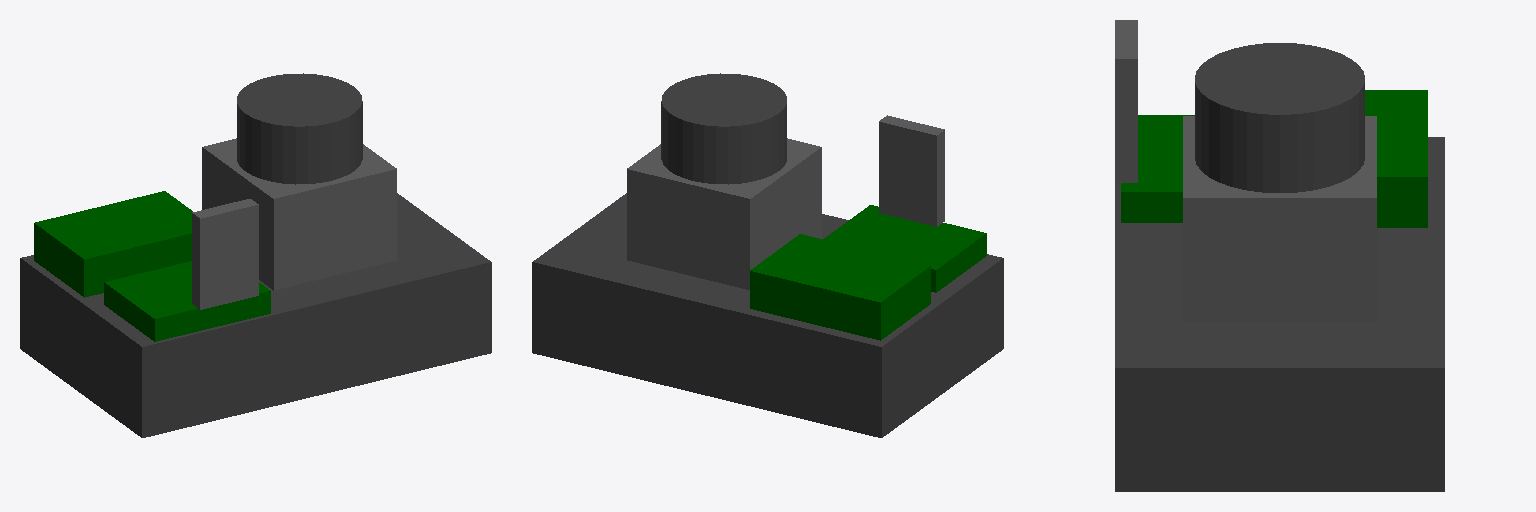
The robot description file, URDF, robot "robot_car":
<?xml version="1.0" ?>
<!-- =================================================================================== -->
<!-- |    This document was autogenerated by xacro from guenbot2.urdf.xacro            | -->
<!-- |    EDITING THIS FILE BY HAND IS NOT RECOMMENDED                                 | -->
<!-- =================================================================================== -->
<robot name="robot_car">
  <!-- Robot Base -->
  <link name="base_link">
    <visual>
      <geometry>
        <box size="0.24 0.145 0.06"/>
      </geometry>
      <material name="Dark Grey">
        <color rgba="0.3 0.3 0.3 1.0"/>
      </material>
    </visual>
    <collision>
      <geometry>
        <box size="0.24 0.145 0.06"/>
      </geometry>
    </collision>
    <inertial>
      <origin rpy="1.5707963267948966 0 1.5707963267948966" xyz="0 0 0"/>
      <mass value="1.5"/>
      <inertia ixx="0.00765" ixy="0.0" ixz="0.0" iyy="0.009828125" iyz="0.0" izz="0.0030781249999999997"/>
    </inertial>
  </link>
  <!-- Robot Footprint -->
  <link name="base_footprint">
    <inertial>
      <origin rpy="1.5707963267948966 0 1.5707963267948966" xyz="0 0 0"/>
      <mass value="0"/>
      <inertia ixx="0.0" ixy="0.0" ixz="0.0" iyy="0.0" iyz="0.0" izz="0.0"/>
    </inertial>
  </link>
  <joint name="base_joint" type="fixed">
    <parent link="base_link"/>
    <child link="base_footprint"/>
    <origin rpy="0 0 0" xyz="0.0 0.0 -0.05"/>
  </joint>
  <link name="wheel_front_left_link">
    <visual>
      <origin rpy="0 0 0" xyz="0 0 0"/>
      <geometry>
        <mesh filename="file:///home/guen/neuronbot2_ros2_ws/src/neuronbot2/neuronbot2_description/meshes/mecanum.dae" scale="0.325 0.325 0.325"/>
      </geometry>
    </visual>
    <collision>
      <origin rpy="1.5707963267948966 0 0" xyz="0 0 0"/>
      <geometry>
        <cylinder length="0.035" radius="0.04"/>
      </geometry>
    </collision>
    <inertial>
      <origin rpy="1.5707963267948966 0 0" xyz="0 0 0"/>
      <mass value="0.1"/>
      <inertia ixx="5.020833333333333e-05" ixy="0" ixz="0" iyy="5.020833333333333e-05" iyz="0" izz="8e-05"/>
    </inertial>
  </link>
  <joint name="wheel_front_left_joint" type="continuous">
    <parent link="base_link"/>
    <child link="wheel_front_left_link"/>
    <origin rpy="0 0 0" xyz="0.085 0.0975 -0.01"/>
    <axis xyz="0 1 0"/>
  </joint>
  <link name="wheel_front_right_link">
    <visual>
      <origin rpy="0 0 0" xyz="0 0 0"/>
      <geometry>
        <mesh filename="file:///home/guen/neuronbot2_ros2_ws/src/neuronbot2/neuronbot2_description/meshes/mecanum.dae" scale="0.325 0.325 0.325"/>
      </geometry>
    </visual>
    <collision>
      <origin rpy="1.5707963267948966 0 0" xyz="0 0 0"/>
      <geometry>
        <cylinder length="0.035" radius="0.04"/>
      </geometry>
    </collision>
    <inertial>
      <origin rpy="1.5707963267948966 0 0" xyz="0 0 0"/>
      <mass value="0.1"/>
      <inertia ixx="5.020833333333333e-05" ixy="0" ixz="0" iyy="5.020833333333333e-05" iyz="0" izz="8e-05"/>
    </inertial>
  </link>
  <joint name="wheel_front_right_joint" type="continuous">
    <parent link="base_link"/>
    <child link="wheel_front_right_link"/>
    <origin rpy="0 0 0" xyz="0.085 -0.0975 -0.01"/>
    <axis xyz="0 1 0"/>
  </joint>
  <link name="wheel_back_left_link">
    <visual>
      <origin rpy="0 0 0" xyz="0 0 0"/>
      <geometry>
        <mesh filename="file:///home/guen/neuronbot2_ros2_ws/src/neuronbot2/neuronbot2_description/meshes/mecanum.dae" scale="0.325 0.325 0.325"/>
      </geometry>
    </visual>
    <collision>
      <origin rpy="1.5707963267948966 0 0" xyz="0 0 0"/>
      <geometry>
        <cylinder length="0.035" radius="0.04"/>
      </geometry>
    </collision>
    <inertial>
      <origin rpy="1.5707963267948966 0 0" xyz="0 0 0"/>
      <mass value="0.1"/>
      <inertia ixx="5.020833333333333e-05" ixy="0" ixz="0" iyy="5.020833333333333e-05" iyz="0" izz="8e-05"/>
    </inertial>
  </link>
  <joint name="wheel_back_left_joint" type="continuous">
    <parent link="base_link"/>
    <child link="wheel_back_left_link"/>
    <origin rpy="0 0 0" xyz="-0.085 0.0975 -0.01"/>
    <axis xyz="0 1 0"/>
  </joint>
  <link name="wheel_back_right_link">
    <visual>
      <origin rpy="0 0 0" xyz="0 0 0"/>
      <geometry>
        <mesh filename="file:///home/guen/neuronbot2_ros2_ws/src/neuronbot2/neuronbot2_description/meshes/mecanum.dae" scale="0.325 0.325 0.325"/>
      </geometry>
    </visual>
    <collision>
      <origin rpy="1.5707963267948966 0 0" xyz="0 0 0"/>
      <geometry>
        <cylinder length="0.035" radius="0.04"/>
      </geometry>
    </collision>
    <inertial>
      <origin rpy="1.5707963267948966 0 0" xyz="0 0 0"/>
      <mass value="0.1"/>
      <inertia ixx="5.020833333333333e-05" ixy="0" ixz="0" iyy="5.020833333333333e-05" iyz="0" izz="8e-05"/>
    </inertial>
  </link>
  <joint name="wheel_back_right_joint" type="continuous">
    <parent link="base_link"/>
    <child link="wheel_back_right_link"/>
    <origin rpy="0 0 0" xyz="-0.085 -0.0975 -0.01"/>
    <axis xyz="0 1 0"/>
  </joint>
  <link name="board_1_link">
    <visual>
      <geometry>
        <box size="0.08 0.06 0.015"/>
      </geometry>
      <material name="Dark Green">
        <color rgba="0.0 0.4 0.0 1.0"/>
      </material>
    </visual>
    <collision>
      <geometry>
        <box size="0.08 0.06 0.015"/>
      </geometry>
    </collision>
    <inertial>
      <origin rpy="1.5707963267948966 0 1.5707963267948966" xyz="0 0 0"/>
      <mass value="0.1"/>
      <inertia ixx="5.520833333333334e-05" ixy="0.0" ixz="0.0" iyy="8.333333333333333e-05" iyz="0.0" izz="3.1874999999999996e-05"/>
    </inertial>
  </link>
  <joint name="board_1_joint" type="fixed">
    <parent link="base_link"/>
    <child link="board_1_link"/>
    <origin xyz="-0.07 -0.04 0.0375"/>
  </joint>
  <link name="board_2_link">
    <visual>
      <geometry>
        <box size="0.09 0.06 0.025"/>
      </geometry>
      <material name="Dark Green">
        <color rgba="0.0 0.4 0.0 1.0"/>
      </material>
    </visual>
    <collision>
      <geometry>
        <box size="0.09 0.06 0.025"/>
      </geometry>
    </collision>
    <inertial>
      <origin rpy="1.5707963267948966 0 1.5707963267948966" xyz="0 0 0"/>
      <mass value="0.2"/>
      <inertia ixx="0.00014541666666666666" ixy="0.0" ixz="0.0" iyy="0.00019499999999999997" iyz="0.0" izz="7.041666666666665e-05"/>
    </inertial>
  </link>
  <joint name="board_2_joint" type="fixed">
    <parent link="base_link"/>
    <child link="board_2_link"/>
    <origin xyz="-0.07 0.035 0.042499999999999996"/>
  </joint>
  <link name="antenna_link">
    <visual>
      <geometry>
        <box size="0.04 0.01 0.06"/>
      </geometry>
      <material name="Dark Grey">
        <color rgba="0.4 0.4 0.4 1.0"/>
      </material>
    </visual>
    <collision>
      <geometry>
        <box size="0.04 0.01 0.06"/>
      </geometry>
    </collision>
    <inertial>
      <origin rpy="1.5707963267948966 0 1.5707963267948966" xyz="0 0 0"/>
      <mass value="0.1"/>
      <inertia ixx="4.3333333333333334e-05" ixy="0.0" ixz="0.0" iyy="1.4166666666666668e-05" iyz="0.0" izz="3.083333333333333e-05"/>
    </inertial>
  </link>
  <joint name="antenna_joint" type="fixed">
    <parent link="base_link"/>
    <child link="antenna_link"/>
    <origin xyz="-0.06 -0.06749999999999999 0.075"/>
  </joint>
  <link name="tower_link">
    <visual>
      <geometry>
        <box size="0.085 0.085 0.06"/>
      </geometry>
      <material name="Dark Grey">
        <color rgba="0.4 0.4 0.4 1.0"/>
      </material>
    </visual>
    <collision>
      <geometry>
        <box size="0.085 0.085 0.06"/>
      </geometry>
    </collision>
    <inertial>
      <origin rpy="1.5707963267948966 0 1.5707963267948966" xyz="0 0 0"/>
      <mass value="0.2"/>
      <inertia ixx="0.0001804166666666667" ixy="0.0" ixz="0.0" iyy="0.00024083333333333338" iyz="0.0" izz="0.0001804166666666667"/>
    </inertial>
  </link>
  <joint name="tower_joint" type="fixed">
    <parent link="base_link"/>
    <child link="tower_link"/>
    <origin xyz="0.03 0.00 0.06"/>
  </joint>
  <link name="imu_link">
    <visual>
      <geometry>
        <box size="0.01 0.01 0.008"/>
      </geometry>
      <material name="Dark Blue">
        <color rgba="0.0 0.0 0.4 1.0"/>
      </material>
    </visual>
    <collision>
      <geometry>
        <box size="0.01 0.01 0.008"/>
      </geometry>
    </collision>
    <inertial>
      <origin rpy="1.5707963267948966 0 1.5707963267948966" xyz="0 0 0"/>
      <mass value="0.01"/>
      <inertia ixx="1.3666666666666667e-07" ixy="0.0" ixz="0.0" iyy="1.6666666666666668e-07" iyz="0.0" izz="1.3666666666666667e-07"/>
    </inertial>
  </link>
  <joint name="imu_joint" type="fixed">
    <parent link="base_link"/>
    <child link="imu_link"/>
    <origin xyz="0.02 -0.02 0.05"/>
  </joint>
  <gazebo reference="imu_link">
    <sensor name="imu_sensor" type="imu">
      <plugin filename="libgazebo_ros_imu_sensor.so" name="imu_plugin">
        <ros>
          <namespace>/demo</namespace>
          <remapping>~/out:=imu</remapping>
        </ros>
        <initial_orientation_as_reference>false</initial_orientation_as_reference>
      </plugin>
      <always_on>true</always_on>
      <update_rate>100</update_rate>
      <visualize>true</visualize>
      <imu>
        <angular_velocity>
          <x>
            <noise type="gaussian">
              <mean>0.0</mean>
              <stddev>2e-4</stddev>
              <bias_mean>0.0000075</bias_mean>
              <bias_stddev>0.0000008</bias_stddev>
            </noise>
          </x>
          <y>
            <noise type="gaussian">
              <mean>0.0</mean>
              <stddev>2e-4</stddev>
              <bias_mean>0.0000075</bias_mean>
              <bias_stddev>0.0000008</bias_stddev>
            </noise>
          </y>
          <z>
            <noise type="gaussian">
              <mean>0.0</mean>
              <stddev>2e-4</stddev>
              <bias_mean>0.0000075</bias_mean>
              <bias_stddev>0.0000008</bias_stddev>
            </noise>
          </z>
        </angular_velocity>
        <linear_acceleration>
          <x>
            <noise type="gaussian">
              <mean>0.0</mean>
              <stddev>1.7e-2</stddev>
              <bias_mean>0.1</bias_mean>
              <bias_stddev>0.001</bias_stddev>
            </noise>
          </x>
          <y>
            <noise type="gaussian">
              <mean>0.0</mean>
              <stddev>1.7e-2</stddev>
              <bias_mean>0.1</bias_mean>
              <bias_stddev>0.001</bias_stddev>
            </noise>
          </y>
          <z>
            <noise type="gaussian">
              <mean>0.0</mean>
              <stddev>1.7e-2</stddev>
              <bias_mean>0.1</bias_mean>
              <bias_stddev>0.001</bias_stddev>
            </noise>
          </z>
        </linear_acceleration>
      </imu>
    </sensor>
  </gazebo>
  <gazebo>
    <plugin filename="libgazebo_ros_diff_drive.so" name="diff_drive">
      <ros>
        <namespace>/</namespace>
      </ros>
      <num_wheel_pairs>2</num_wheel_pairs>
      <!-- wheels -->
      <left_joint>wheel_front_left_joint</left_joint>
      <right_joint>wheel_front_right_joint</right_joint>
      <left_joint>wheel_back_left_joint</left_joint>
      <right_joint>wheel_back_right_joint</right_joint>
      <!-- kinematics -->
      <wheel_separation>0.20</wheel_separation>
      <wheel_diameter>0.08</wheel_diameter>
      <wheel_separation>0.20</wheel_separation>
      <wheel_diameter>0.08</wheel_diameter>
      <!-- limits -->
      <max_wheel_torque>20</max_wheel_torque>
      <max_wheel_acceleration>1.0</max_wheel_acceleration>
      <!-- output -->
      <publish_odom>true</publish_odom>
      <publish_odom_tf>true</publish_odom_tf>
      <publish_wheel_tf>true</publish_wheel_tf>
      <odometry_frame>odom</odometry_frame>
      <robot_base_frame>base_link</robot_base_frame>
    </plugin>
  </gazebo>
  <link name="lidar_link">
    <visual>
      <origin rpy="0 0 0" xyz="0 0 0"/>
      <geometry>
        <cylinder length="0.038" radius="0.0375"/>
      </geometry>
      <material name="Dark Grey">
        <color rgba="0.3 0.3 0.3 1.0"/>
      </material>
    </visual>
    <collision>
      <origin rpy="0 0 0" xyz="0 0 0"/>
      <geometry>
        <cylinder length="0.038" radius="0.0375"/>
      </geometry>
    </collision>
    <inertial>
      <origin rpy="1.5707963267948966 0 0" xyz="0 0 0"/>
      <mass value="0.2"/>
      <inertia ixx="9.437916666666666e-05" ixy="0" ixz="0" iyy="9.437916666666666e-05" iyz="0" izz="0.000140625"/>
    </inertial>
  </link>
  <joint name="lidar_joint" type="fixed">
    <parent link="base_link"/>
    <child link="lidar_link"/>
    <origin rpy="0 0 0" xyz="0.03 0.00 0.109"/>
  </joint>
  <gazebo reference="lidar_link">
    <sensor name="lidar" type="ray">
      <always_on>true</always_on>
      <visualize>true</visualize>
      <update_rate>5</update_rate>
      <ray>
        <scan>
          <horizontal>
            <samples>360</samples>
            <resolution>1.000000</resolution>
            <min_angle>0.000000</min_angle>
            <max_angle>6.280000</max_angle>
          </horizontal>
        </scan>
        <range>
          <min>0.120000</min>
          <max>3.5</max>
          <resolution>0.015000</resolution>
        </range>
        <noise>
          <type>gaussian</type>
          <mean>0.0</mean>
          <stddev>0.01</stddev>
        </noise>
      </ray>
      <plugin filename="libgazebo_ros_ray_sensor.so" name="scan">
        <ros>
          <remapping>~/out:=scan</remapping>
        </ros>
        <output_type>sensor_msgs/LaserScan</output_type>
        <frame_name>lidar_link</frame_name>
      </plugin>
    </sensor>
  </gazebo>
</robot>

--- What the picture shows (computed from the rendered views, not written in the file) ---
Views: 3 orthographic renders of the robot side by side, from view 1: azimuth 30°, elevation 25°; view 2: azimuth 150°, elevation 25°; view 3: azimuth 270°, elevation 25°.
Robot: robot_car — 12 links, 11 joints (4 continuous, 7 fixed); root link base_link; default pose: every joint at zero.
Visible links, largest first — view 1: base_link, tower_link, lidar_link, board_2_link, board_1_link, antenna_link; view 2: base_link, tower_link, board_2_link, lidar_link, antenna_link, board_1_link; view 3: base_link, tower_link, lidar_link, board_2_link, board_1_link, antenna_link.
Link boxes in pixels (box(x1,y1,x2,y2)): base_link: box(20, 193, 491, 437); tower_link: box(202, 138, 396, 290); lidar_link: box(237, 73, 362, 184); board_2_link: box(34, 191, 192, 297); board_1_link: box(104, 261, 270, 341); antenna_link: box(192, 199, 258, 309); base_link: box(532, 193, 1003, 437); tower_link: box(627, 138, 821, 289); board_2_link: box(750, 234, 930, 340); lidar_link: box(661, 73, 786, 184); antenna_link: box(879, 115, 944, 226); board_1_link: box(823, 205, 986, 292); base_link: box(1115, 137, 1444, 491); tower_link: box(1183, 116, 1376, 321); lidar_link: box(1195, 43, 1364, 192); board_2_link: box(1365, 90, 1427, 227); board_1_link: box(1121, 115, 1194, 222); antenna_link: box(1115, 20, 1137, 182).
Bounding box of the posed robot: 0.24 × 0.145 × 0.158 m (x, y, z).
Geometry: only primitive shapes (box / cylinder / sphere) drawn; not drawn: 4 mesh visuals (reference in a form the renderer does not follow).
